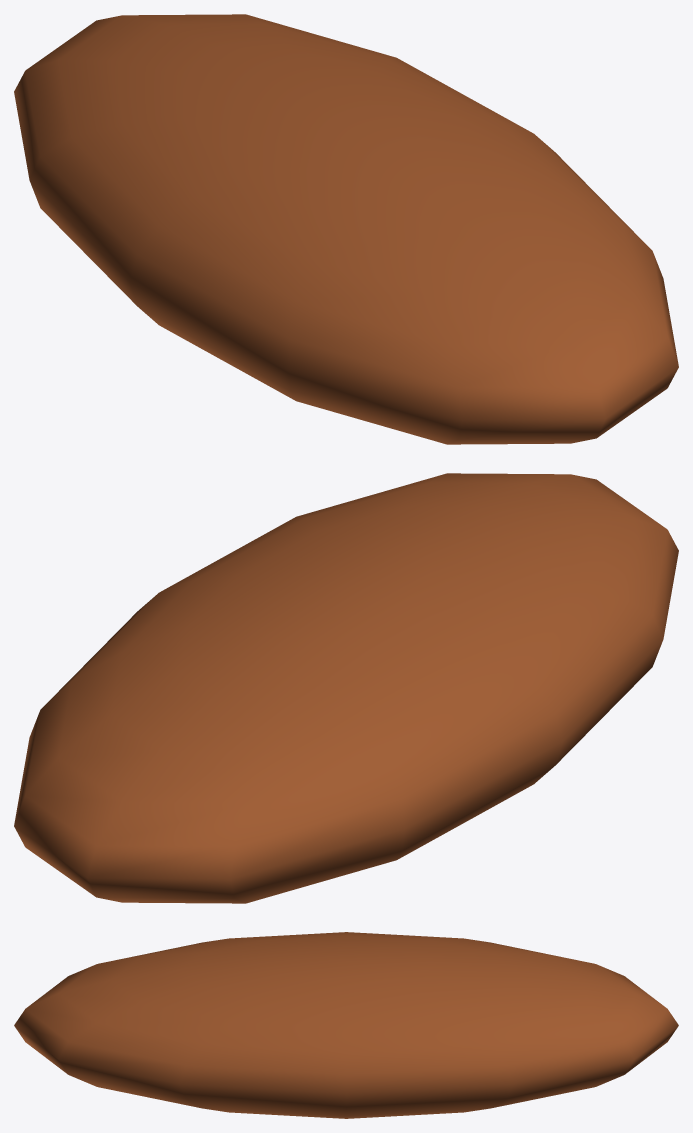
Rendered from Calm Stone.fbx.
The picture shows the model from 3 angles, top to bottom: view 1: azimuth 30°, elevation 25°; view 2: azimuth 150°, elevation 25°; view 3: azimuth 270°, elevation 25°; orthographic projection. The views are drawn at different scales.
Parts seen in each view (by area): view 1: pSphere2; view 2: pSphere2; view 3: pSphere2.
Part boxes in pixels (x1=…): pSphere2: x1=14, y1=14, x2=678, y2=444; pSphere2: x1=14, y1=473, x2=678, y2=903; pSphere2: x1=14, y1=932, x2=678, y2=1118.
Size of the model in its own units: 1.82 by 0.8025 by 3.76.
